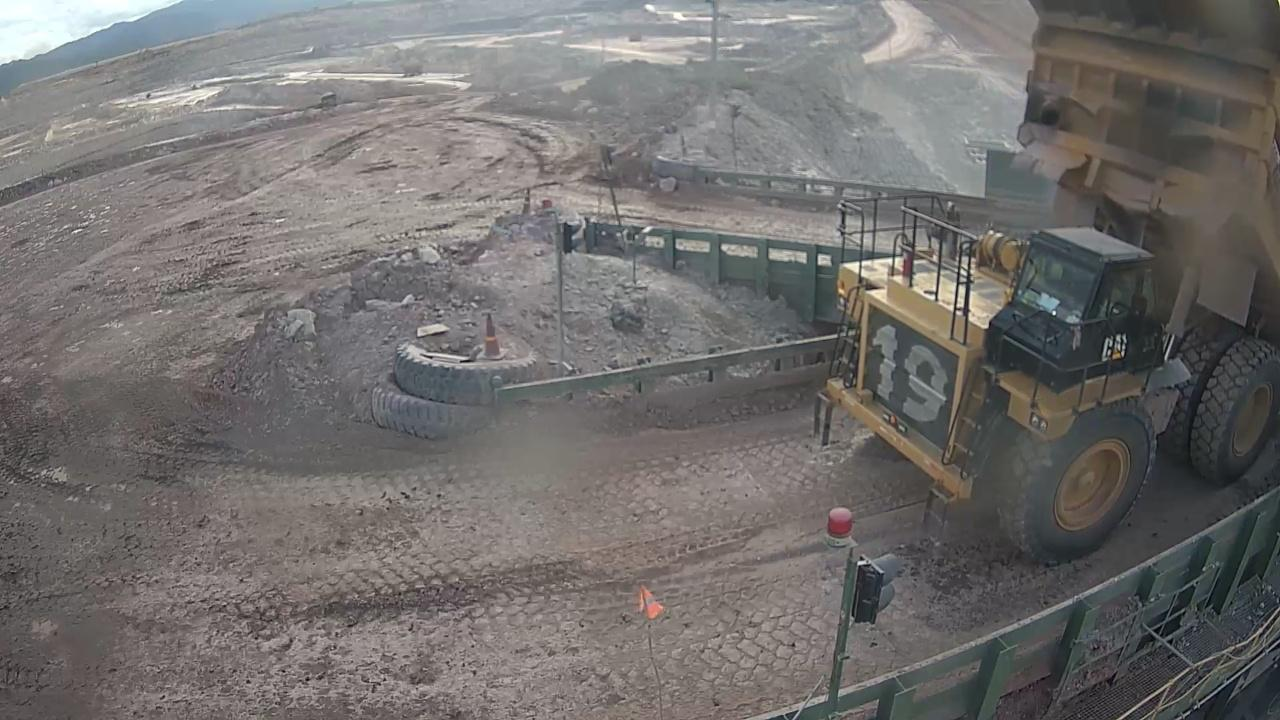dumping_soil: (816, 0, 1280, 582)
front_number: (861, 306, 959, 443)
